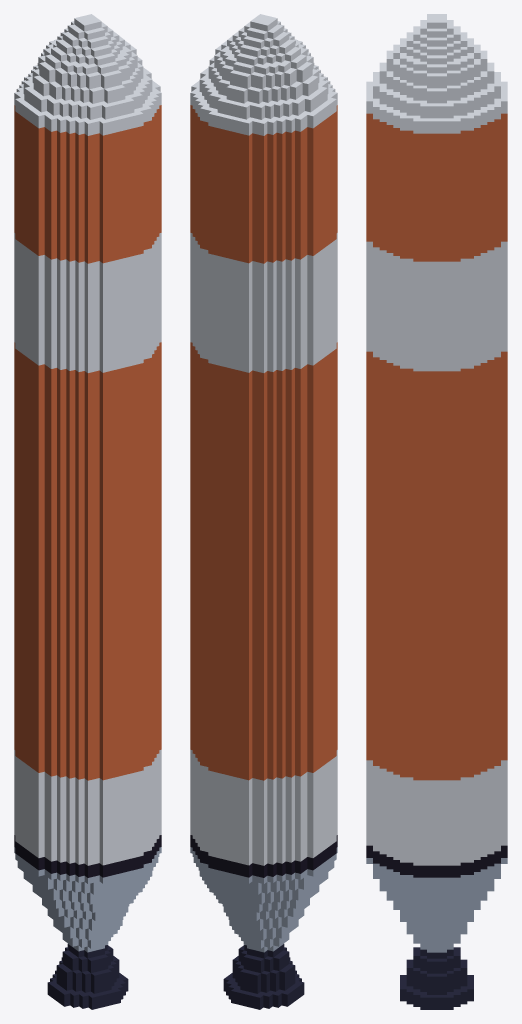
Rendered from Lake_IV_booster.glb.
The picture shows the model from 3 angles, left to right: view 1: azimuth 30°, elevation 25°; view 2: azimuth 150°, elevation 25°; view 3: azimuth 270°, elevation 25°; orthographic projection.
Visible parts, largest first — view 1: ObjObject.012; view 2: ObjObject.012; view 3: ObjObject.012.
Boxes of the visible parts, x1,y1,x2,y2 form: ObjObject.012: (14,14,161,1009); ObjObject.012: (190,14,337,1009); ObjObject.012: (366,14,507,1009).
Bounding box in the file's own units: 2.1 × 16 × 2.1.
Materials: 1 (1 with a texture image).
